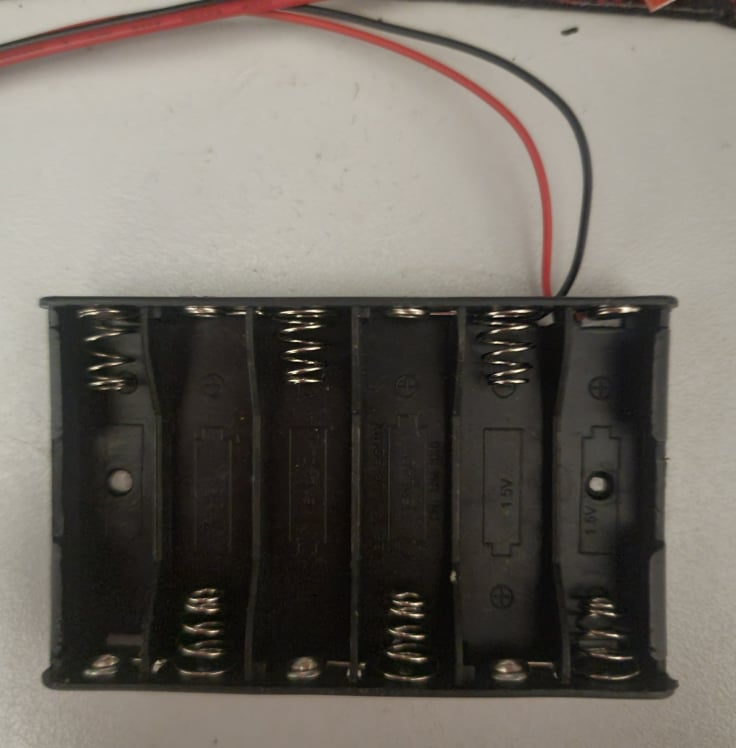BATTERY BOX: (38, 292, 686, 704)
